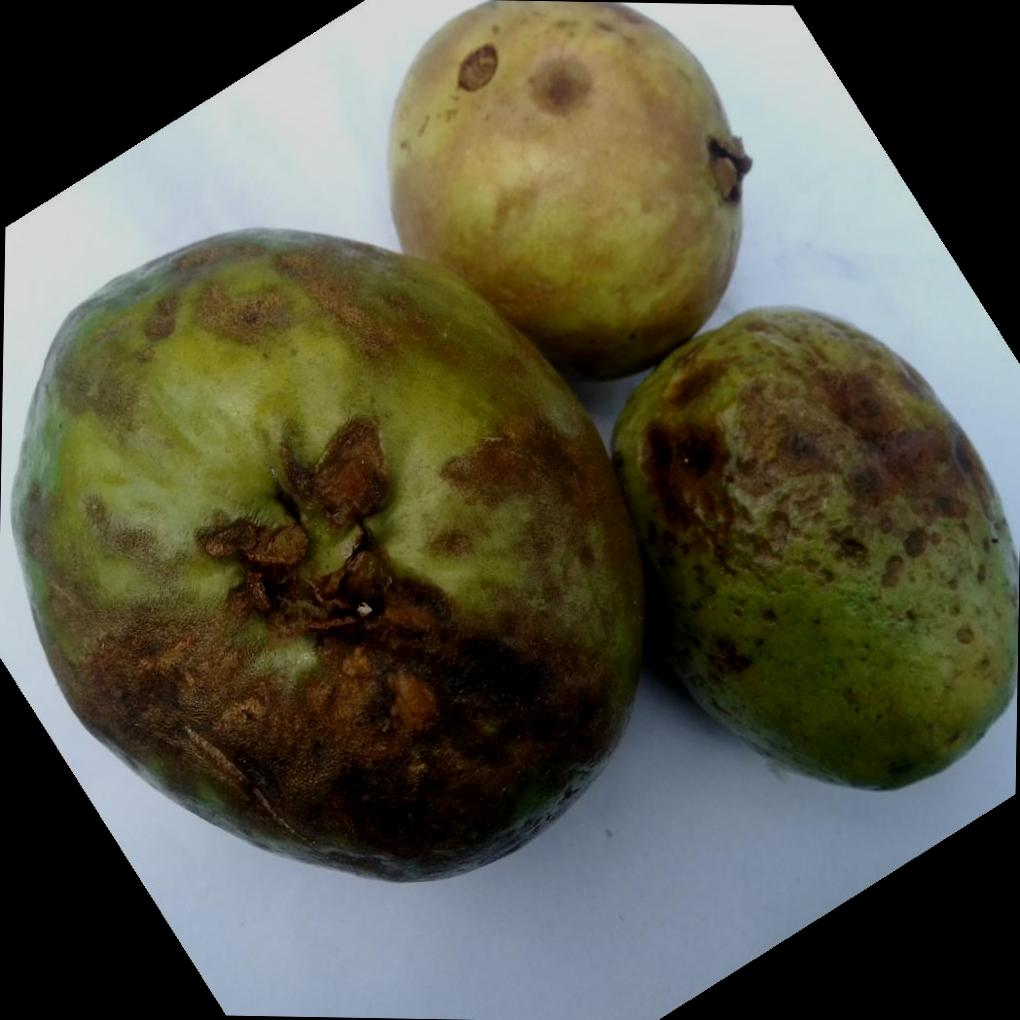FreshOrange: (9, 0, 1019, 886)
